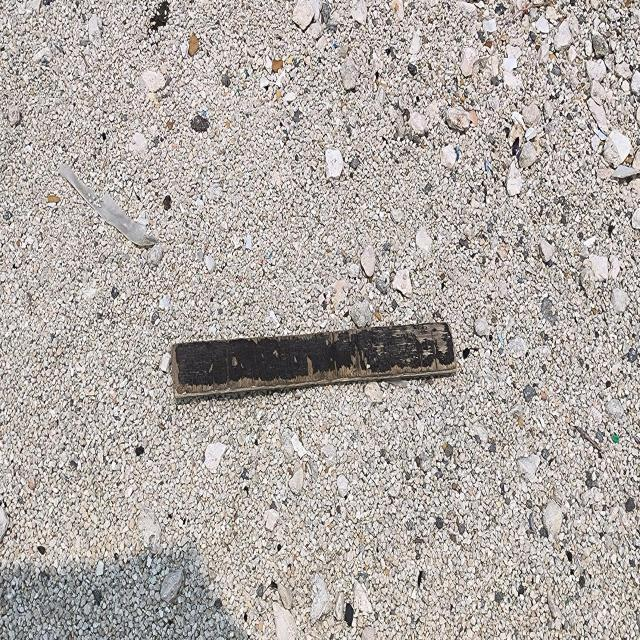wood_waste: (171, 323, 458, 399)
